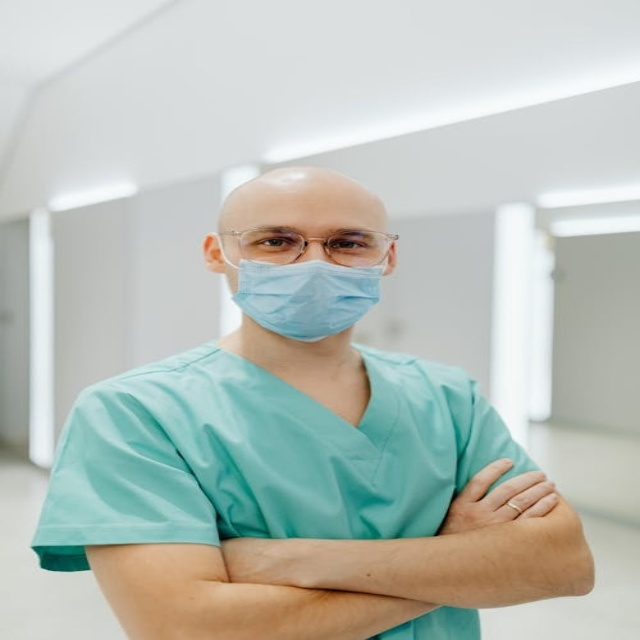Gafas: (218, 227, 399, 267)
Mascara: (227, 253, 387, 341)
Sin_guantes: (440, 460, 559, 534)
